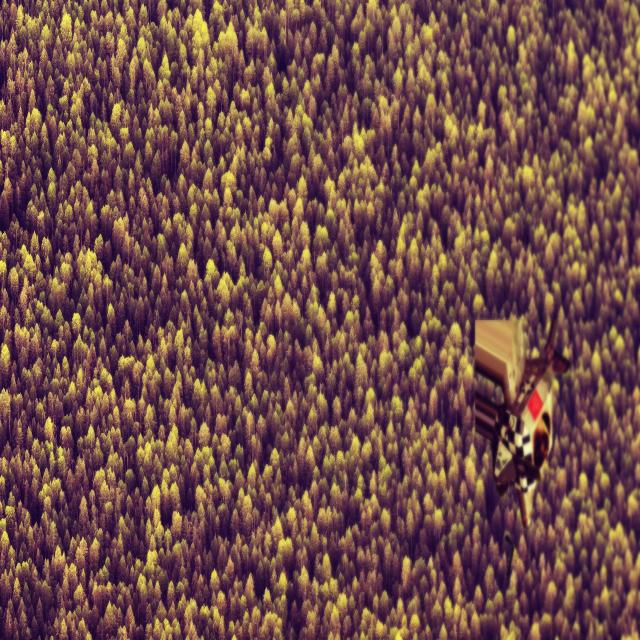airplane: (472, 304, 571, 529)
